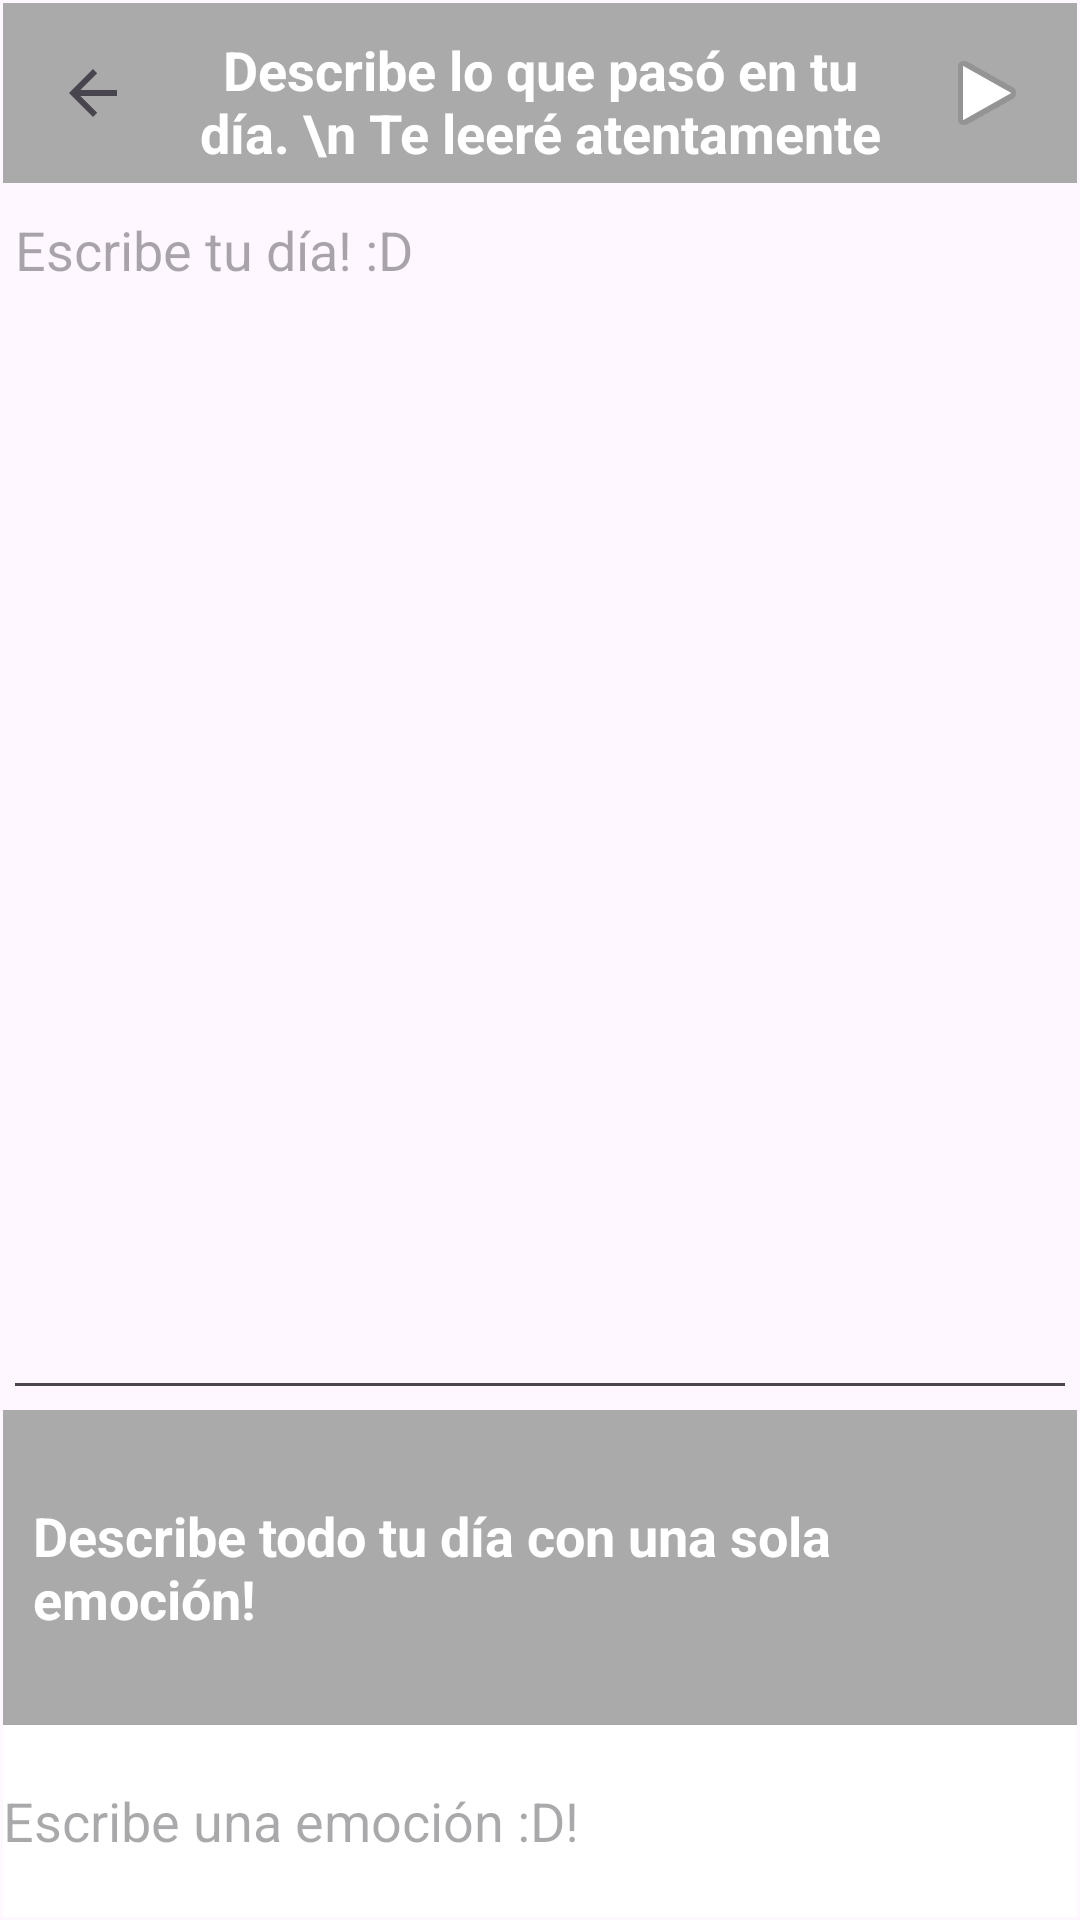

Named icons in this screenshot (1080x1920) and their centers, [x,y]:
play: [987,93]
